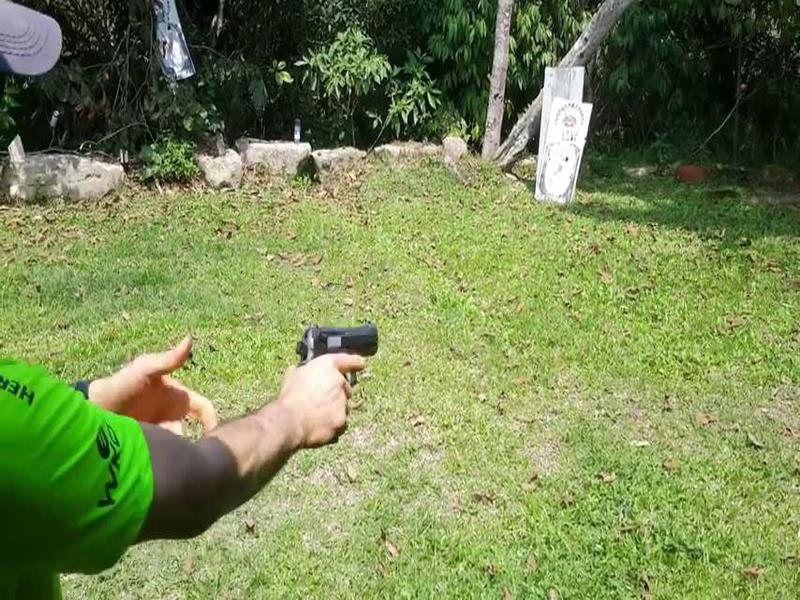Pistola: (277, 314, 391, 412)
